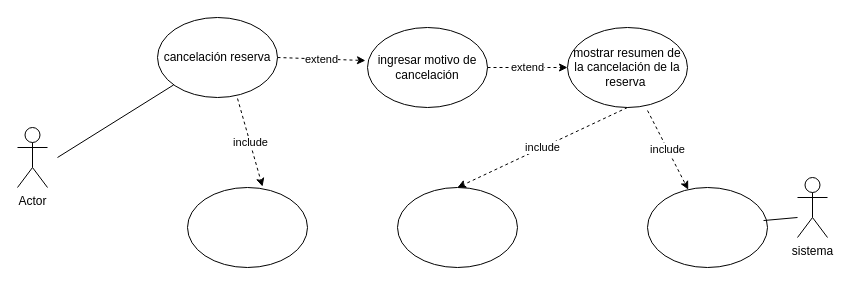
Some shapes in this 850 by 285 pixel diagram are drawn without their labels. The centre of each missing label's shape, as x and y in pixels:
"enviar notificación al email" belongs at [457,227].
"guardar cancelación en el sistema" belongs at [707,227].
"validar datos" belongs at [247,227].
